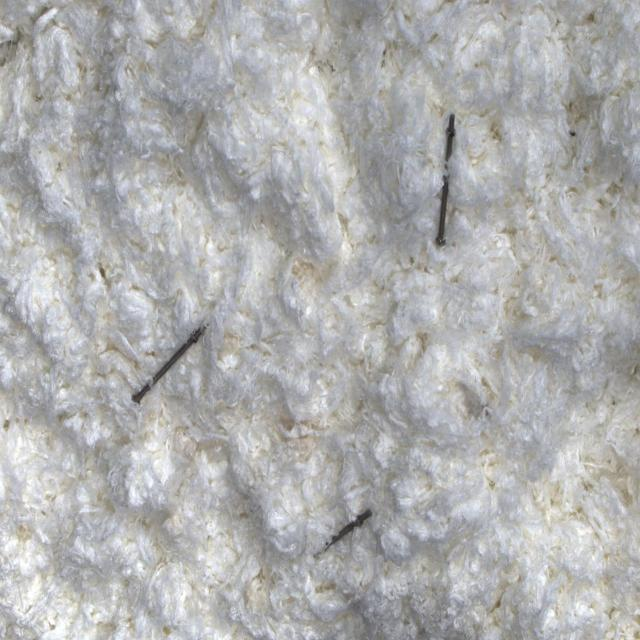dust: (410, 104, 482, 253), (122, 318, 217, 412), (307, 506, 376, 562)
